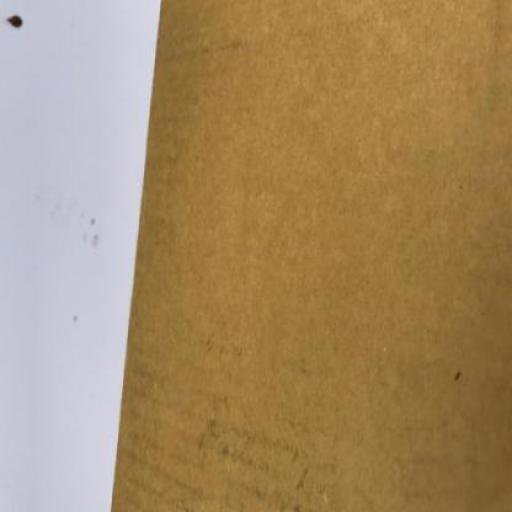cardboard: (109, 0, 511, 511)
